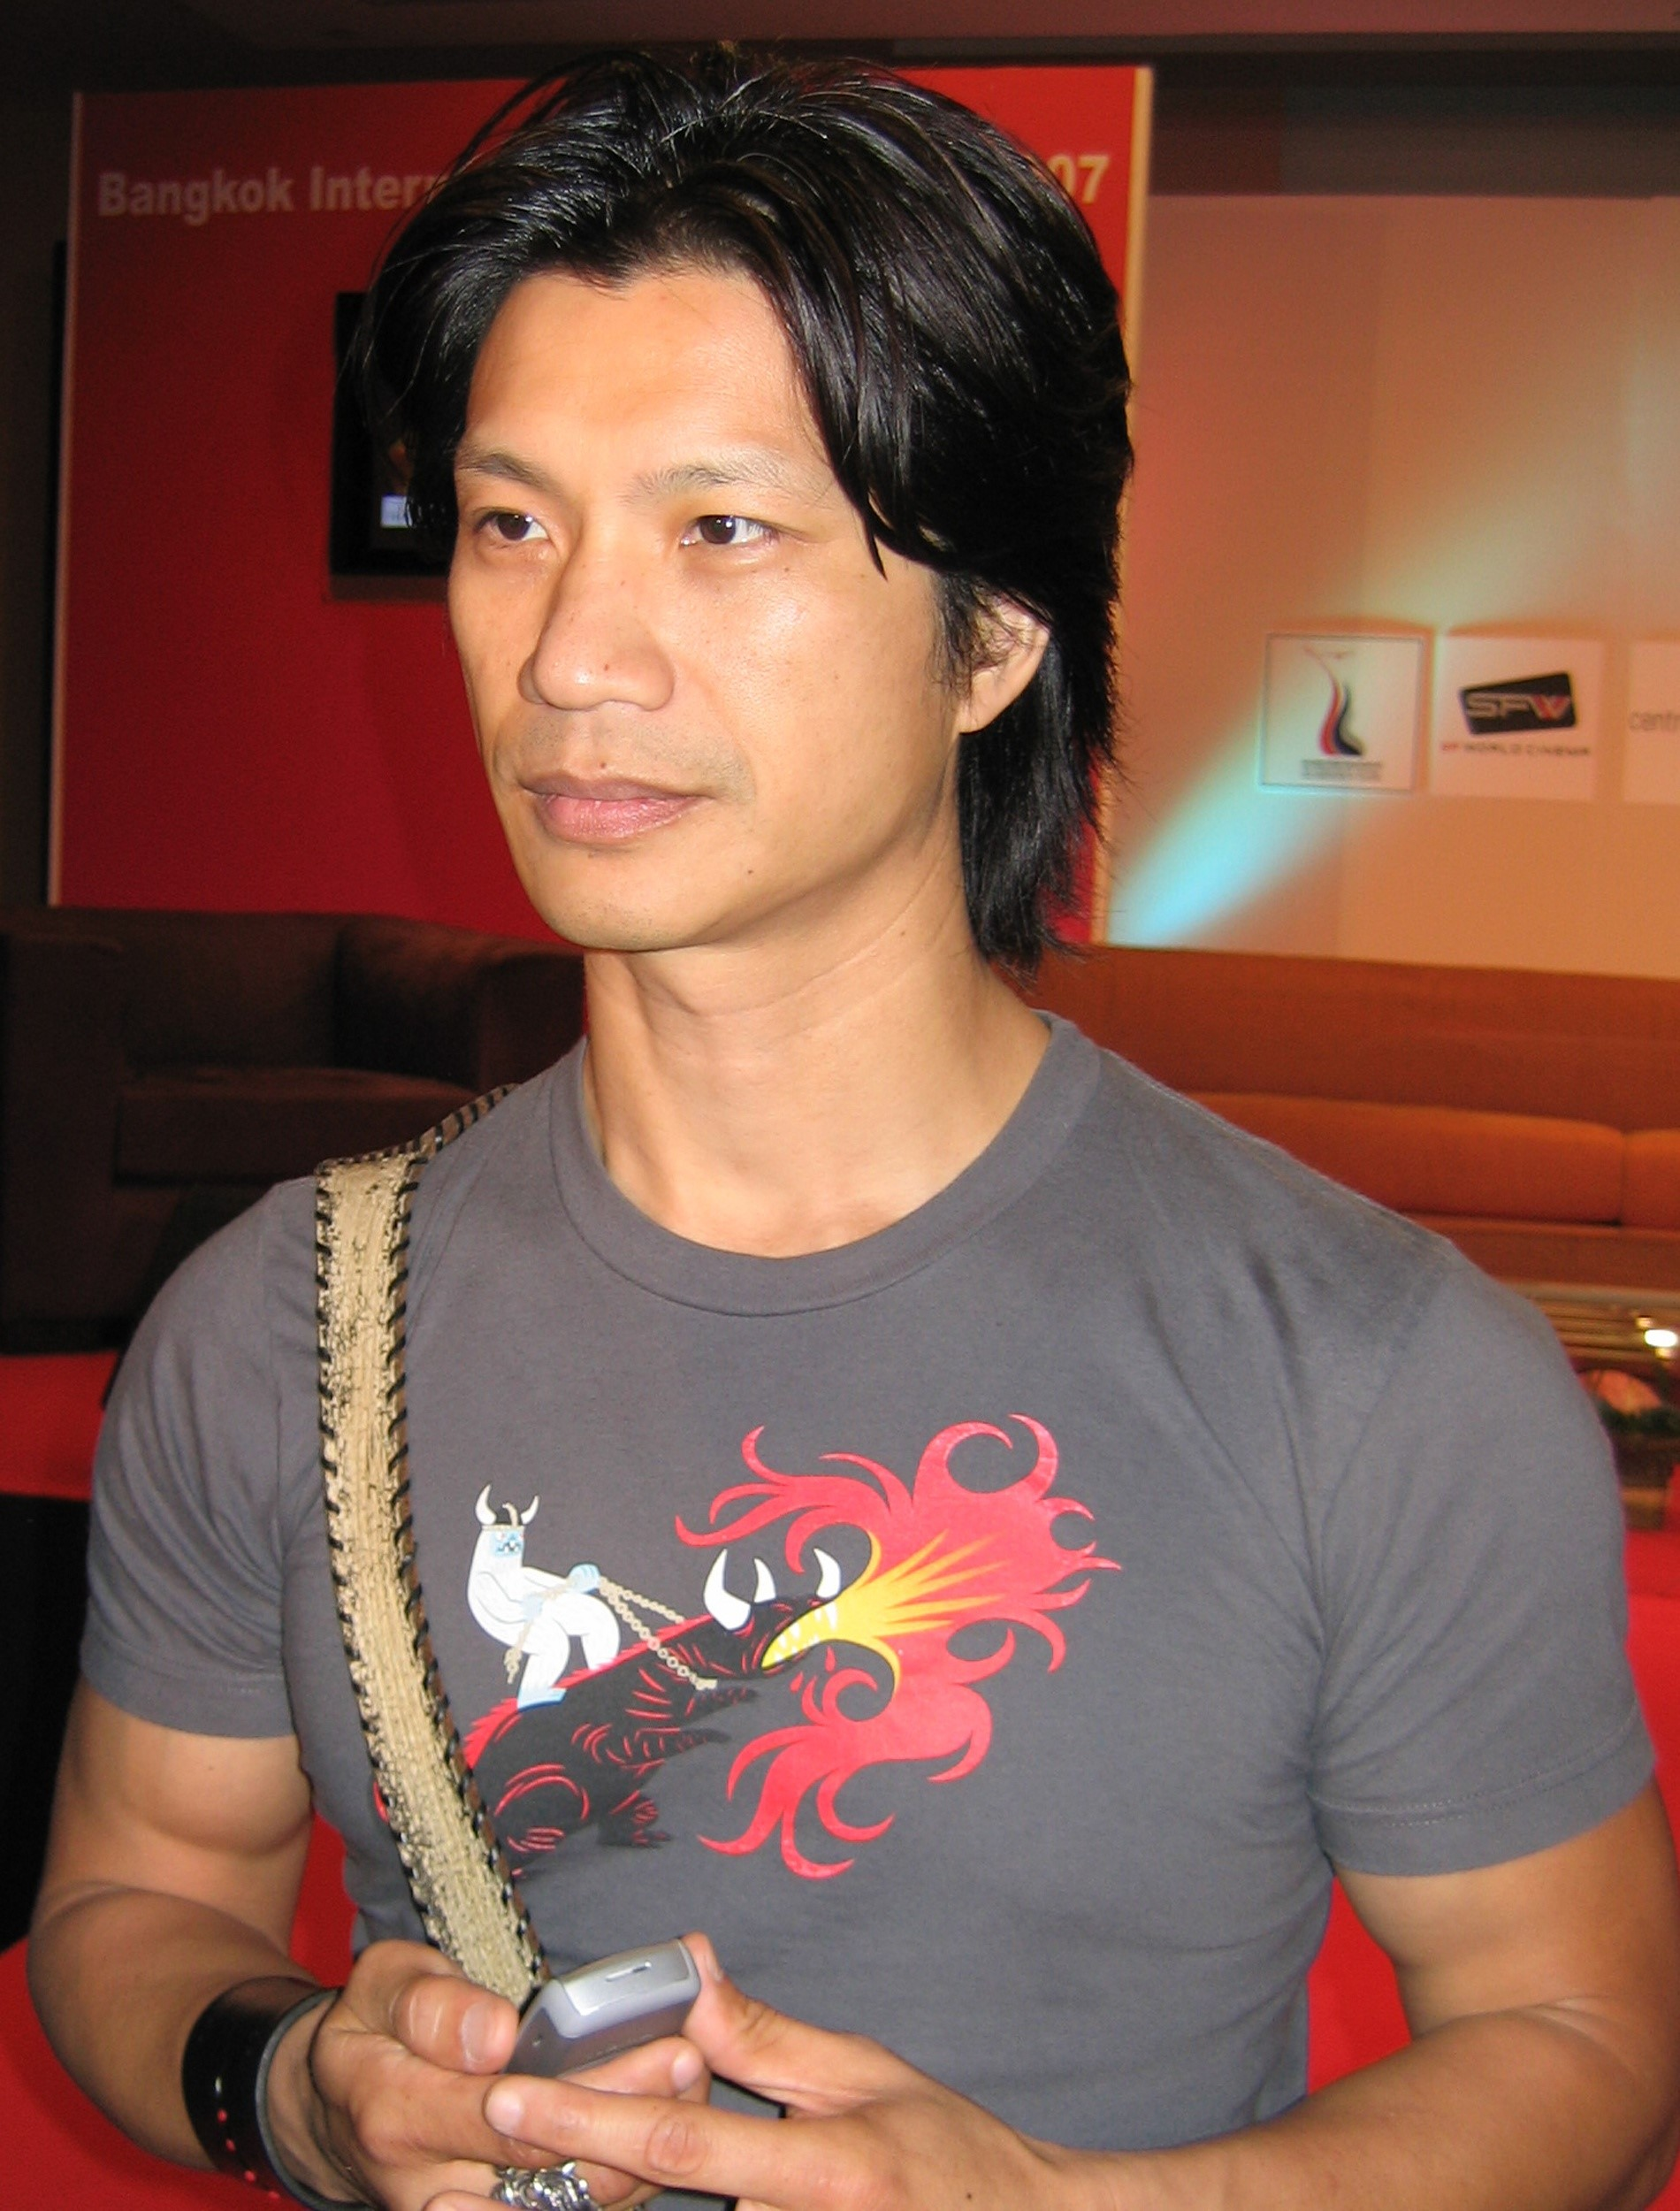face_no_mask: (429, 74, 1122, 959)
